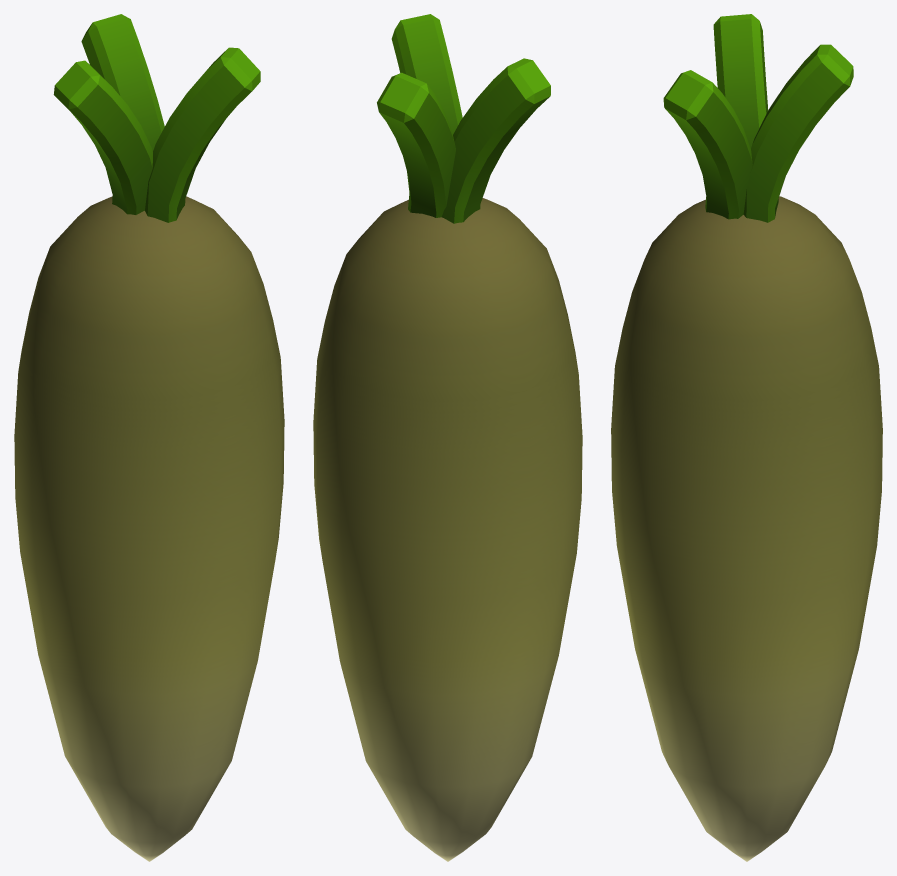
Rendered from Radish.fbx.
The picture shows the model from 3 angles, left to right: view 1: azimuth 30°, elevation 25°; view 2: azimuth 150°, elevation 25°; view 3: azimuth 270°, elevation 25°; orthographic projection.
Visible parts, largest first — view 1: Radish; view 2: Radish; view 3: Radish.
Boxes of the visible parts, x1,y1,x2,y2 form: Radish: [14, 14, 284, 861]; Radish: [313, 14, 582, 861]; Radish: [611, 14, 882, 861].
Size of the model in its own units: 43.12 by 142 by 43.12.
